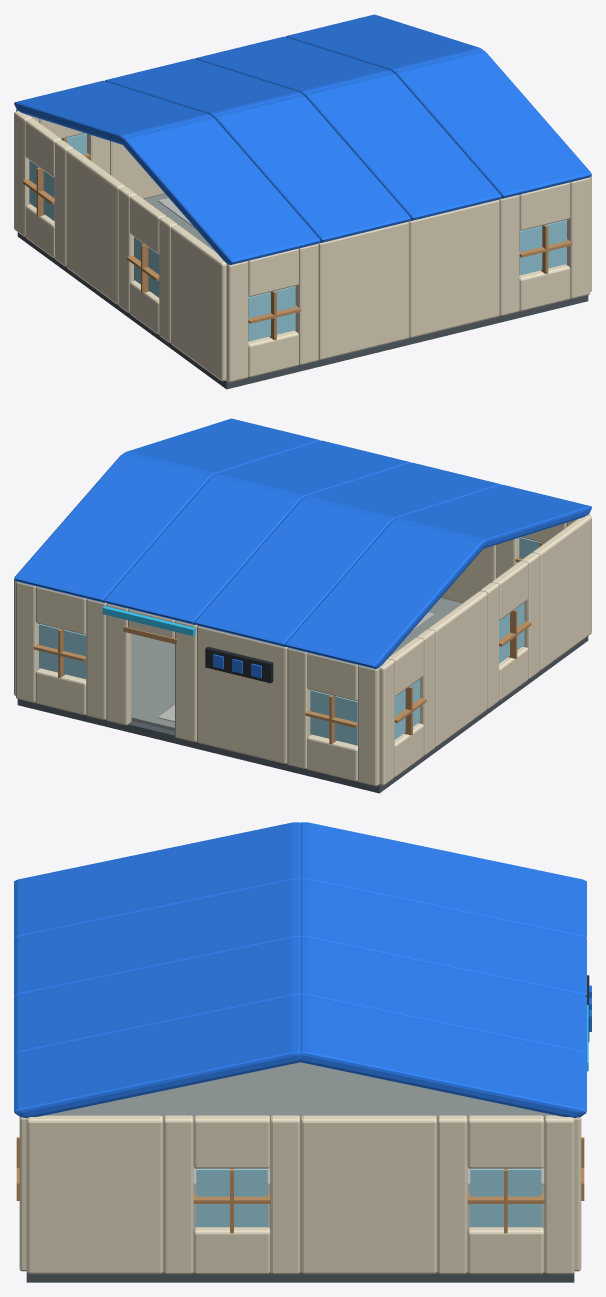
The model's file is BlueKitchen.glb.
3 views of the same model, one above another, from view 1: azimuth 30°, elevation 25°; view 2: azimuth 150°, elevation 25°; view 3: azimuth 270°, elevation 25° (orthographic). The views are drawn at different scales.
Parts seen in each view (by area): view 1: FTF_Building_TeamKitchen_Blue_8x8m_StaticMesh; view 2: FTF_Building_TeamKitchen_Blue_8x8m_StaticMesh; view 3: FTF_Building_TeamKitchen_Blue_8x8m_StaticMesh.
Boxes of the visible parts, x1,y1,x2,y2 form: FTF_Building_TeamKitchen_Blue_8x8m_StaticMesh: (14,14,591,389); FTF_Building_TeamKitchen_Blue_8x8m_StaticMesh: (14,418,591,793); FTF_Building_TeamKitchen_Blue_8x8m_StaticMesh: (14,822,591,1282).
Size of the model in its own units: 8.29 by 3.71 by 8.44.
